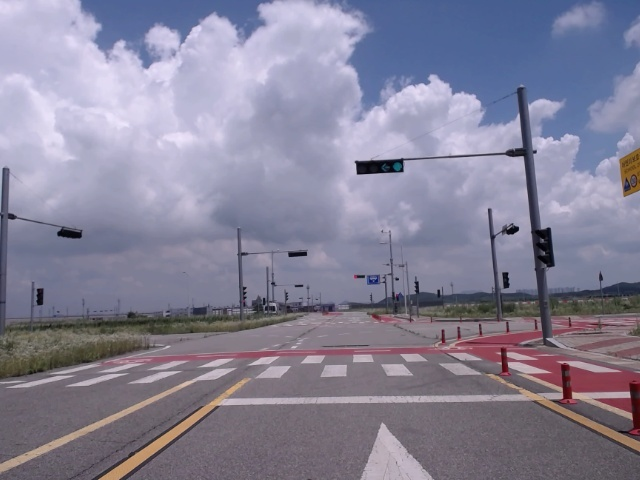all_green_4: (354, 158, 406, 172)
